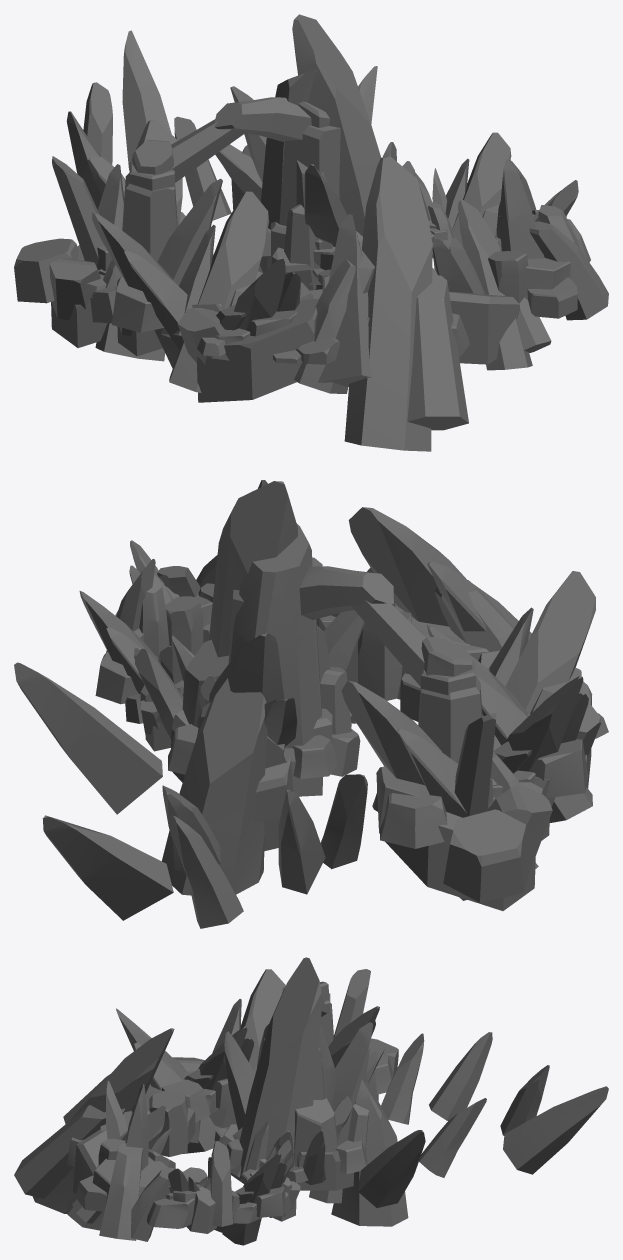
The model's file is Zone3_RockFormation.fbx.
The picture shows the model from 3 angles, top to bottom: view 1: azimuth 30°, elevation 25°; view 2: azimuth 150°, elevation 25°; view 3: azimuth 270°, elevation 25°; orthographic projection. The views are drawn at different scales.
Visible parts, largest first — view 1: rock_huge_24, rock_huge_23, rock_medium_51, rock_large_13, rock_huge_22, rock_medium_50, rock_huge_20, rock_huge_13, rock_huge_21, rock_huge_10, rock_large_24, rock5011 (+26 smaller); view 2: rock_huge_23, rock_large_23, rock_medium_50, rock5038, rock_huge_24, rock_huge_21, rock_huge_19, rock5039, rock_huge_20, rock_large_24, rock5036, rock5024 (+24 smaller); view 3: rock_huge_23, rock_huge_24, rock_large_23, rock_large_13, rock5039, rock_large_12, rock_huge_10, rock5038, rock_huge_20, rock5037, rock_large_24, rock_medium_43 (+21 smaller).
Boxes of the visible parts, bbox=[...] form: rock_huge_24: bbox=[317, 156, 469, 451]; rock_huge_23: bbox=[261, 14, 380, 284]; rock_medium_51: bbox=[177, 282, 339, 402]; rock_large_13: bbox=[488, 221, 608, 320]; rock_huge_22: bbox=[161, 191, 269, 393]; rock_medium_50: bbox=[14, 238, 107, 347]; rock_huge_20: bbox=[92, 212, 187, 368]; rock_huge_13: bbox=[449, 200, 551, 370]; rock_huge_21: bbox=[208, 257, 300, 360]; rock_huge_10: bbox=[445, 132, 511, 247]; rock_large_24: bbox=[294, 241, 374, 393]; rock5011: bbox=[449, 291, 519, 364]; rock_huge_23: bbox=[182, 481, 330, 747]; rock_large_23: bbox=[162, 633, 285, 895]; rock_medium_50: bbox=[380, 773, 552, 910]; rock5038: bbox=[14, 662, 162, 814]; rock_huge_24: bbox=[348, 507, 531, 645]; rock_huge_21: bbox=[489, 571, 595, 713]; rock_huge_19: bbox=[341, 680, 538, 900]; rock5039: bbox=[42, 815, 173, 920]; rock_huge_20: bbox=[493, 676, 588, 798]; rock_large_24: bbox=[358, 580, 514, 721]; rock5036: bbox=[168, 816, 243, 928]; rock5024: bbox=[299, 566, 393, 619]; rock_huge_23: bbox=[238, 957, 338, 1180]; rock_huge_24: bbox=[14, 1028, 174, 1213]; rock_large_23: bbox=[309, 1022, 408, 1226]; rock_large_13: bbox=[77, 1138, 175, 1240]; rock5039: bbox=[503, 1086, 608, 1174]; rock_large_12: bbox=[131, 1167, 216, 1241]; rock_huge_10: bbox=[214, 1153, 286, 1245]; rock5038: bbox=[358, 1130, 425, 1207]; rock_huge_20: bbox=[212, 969, 285, 1129]; rock5037: bbox=[429, 1032, 492, 1120]; rock_large_24: bbox=[100, 1090, 195, 1156]; rock_medium_43: bbox=[287, 1140, 367, 1190].
Size of the model in its own units: 35326 by 24313 by 48802.
